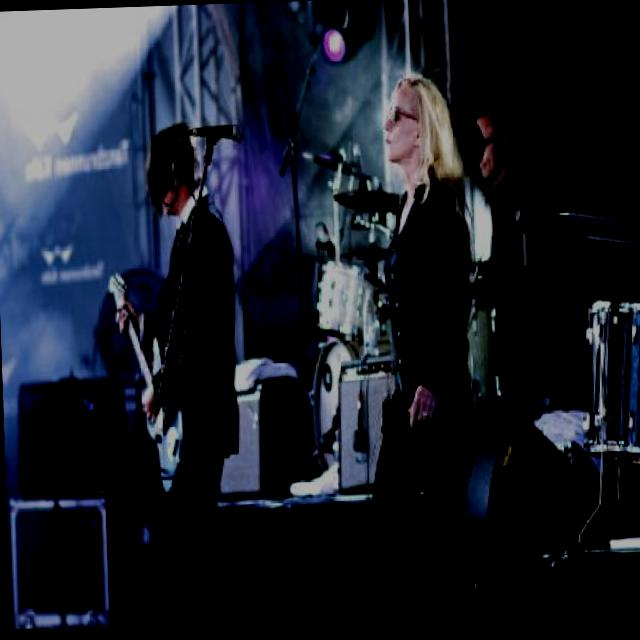Person: (351, 70, 474, 636), (114, 101, 248, 580), (457, 110, 530, 404)
